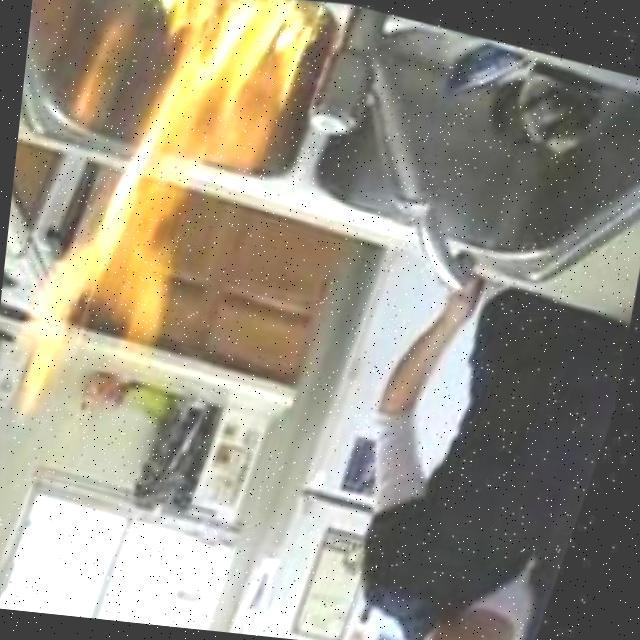fire: (0, 0, 323, 458)
